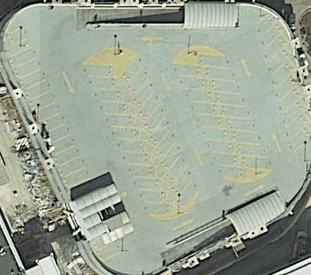parkingspot: (81, 63, 175, 215), (120, 55, 200, 213), (7, 45, 93, 191), (197, 53, 275, 170), (171, 63, 249, 179), (257, 13, 311, 157), (94, 242, 125, 263), (4, 26, 28, 51)
